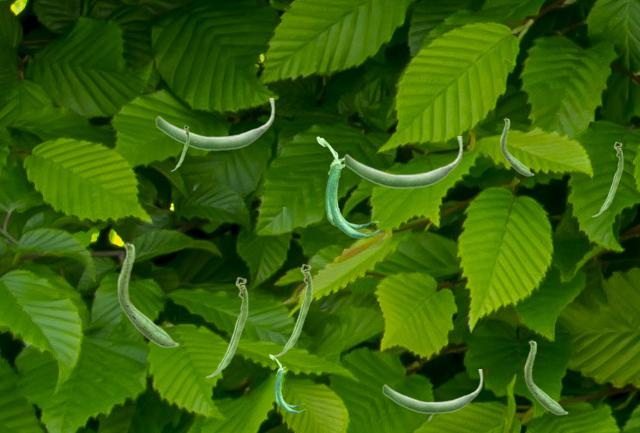french_bean: (117, 241, 178, 347), (316, 136, 378, 237), (343, 136, 462, 188), (155, 98, 274, 150), (382, 369, 482, 413), (205, 276, 247, 377), (273, 263, 311, 356), (524, 339, 567, 414), (591, 141, 622, 216), (269, 354, 304, 412), (500, 117, 533, 175), (170, 125, 188, 170)
